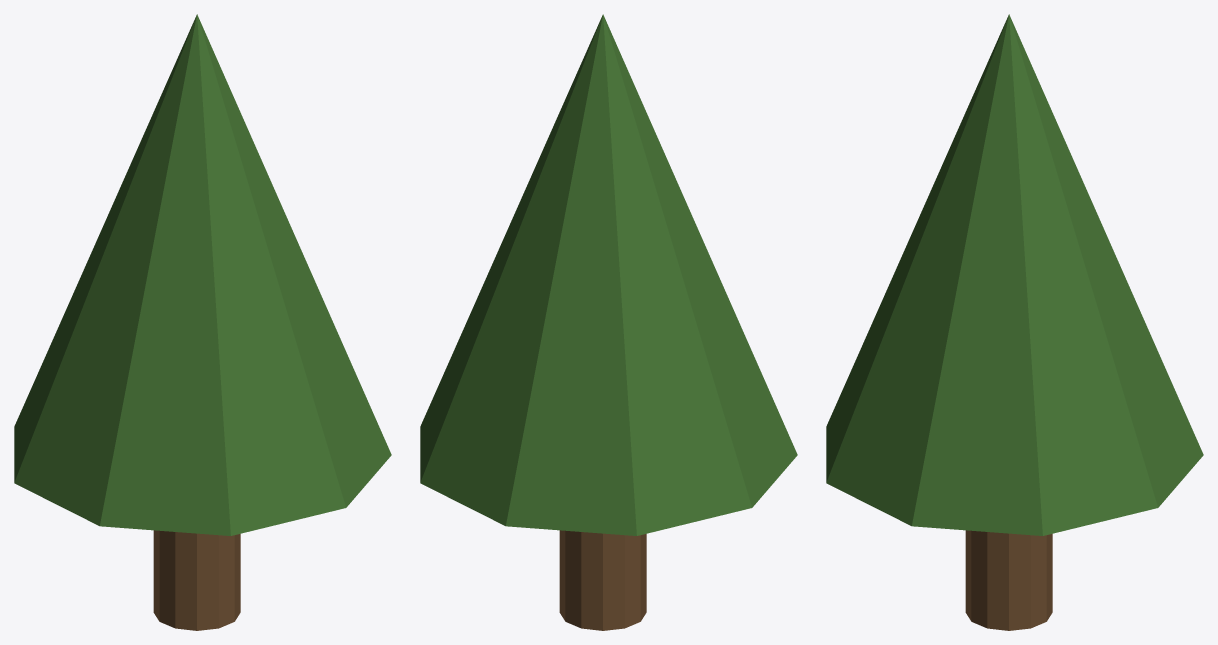
The model's file is tree_1.glb.
3 views of the same model, side by side, from view 1: azimuth 30°, elevation 25°; view 2: azimuth 150°, elevation 25°; view 3: azimuth 270°, elevation 25° (orthographic).
Parts seen in each view (by area): view 1: head, base; view 2: head, base; view 3: head, base.
Part boxes in pixels (x1,y1,x2,y2): head: [14, 14, 391, 535]; base: [153, 530, 240, 630]; head: [420, 14, 797, 535]; base: [559, 530, 646, 630]; head: [826, 14, 1203, 535]; base: [965, 530, 1052, 630].
Size of the model in its own units: 0.6303 by 1.09 by 0.6207.
